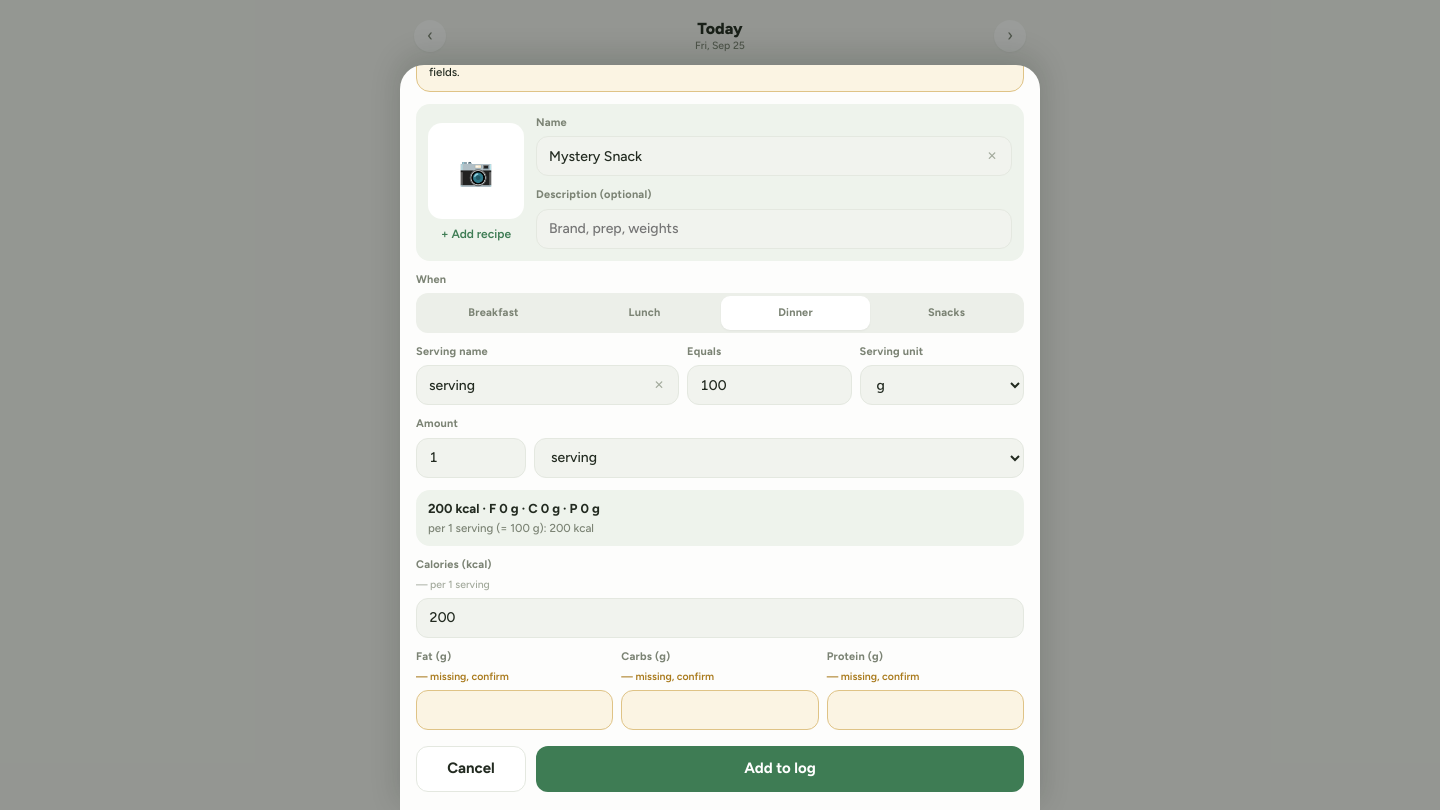
Test: App (spec scenario walkthrough) › search prefill with missing macros flags fields but allows saving as zero
The image size is (1440, 810).
(page scrolled)
Expected: the field labelled "Calories (kcal) — per 1 serving" holds "200", [416,598,1024,638]
Expected: the field labelled "Carbs (g) — missing, confirm" is empty, [621,690,819,730]
# Saving with the optional macros left blank succeeds, defaulting them to 0
Click the button "Add to log".
click(780, 769)  # box [536,746,1024,792]
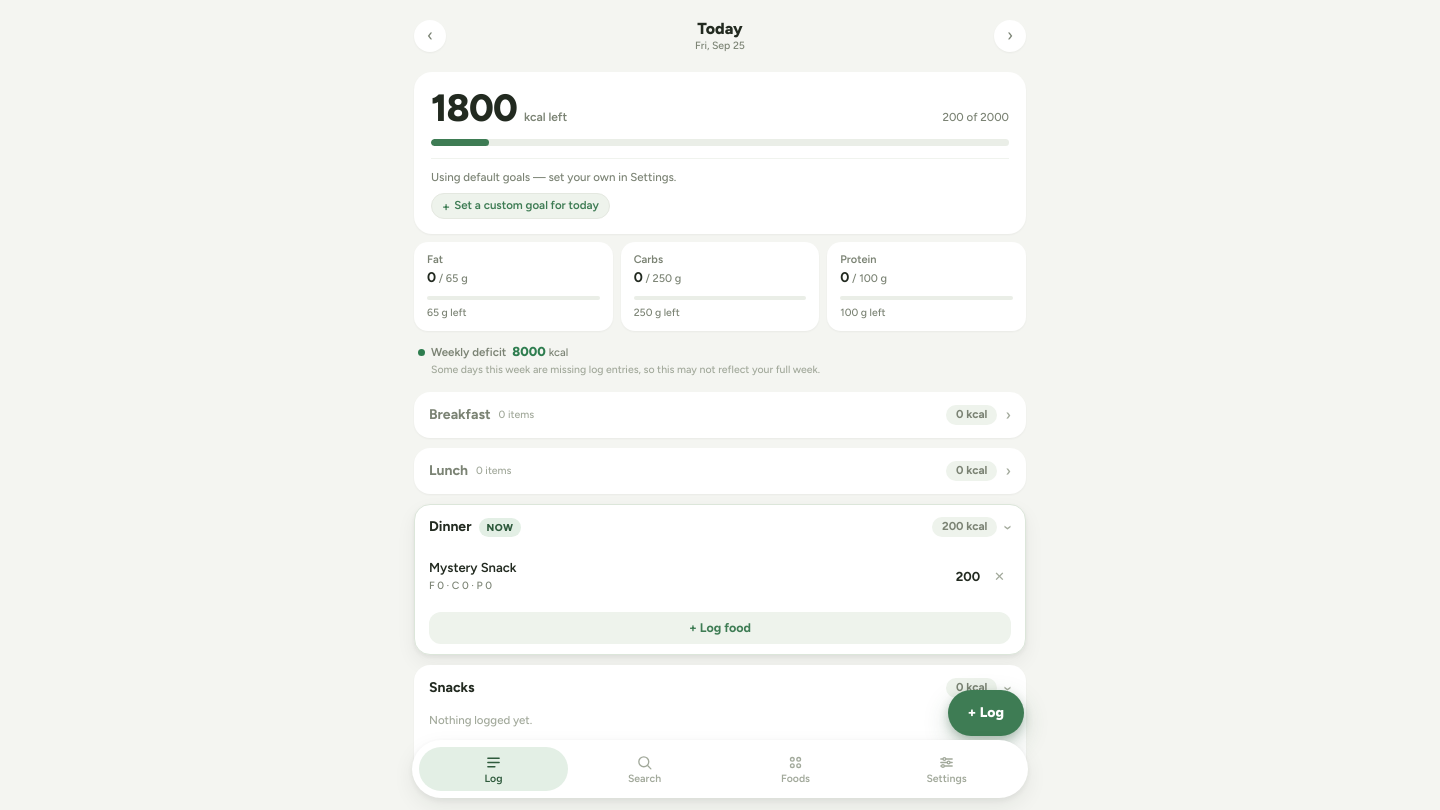
Expected: the text "Mystery Snack" is shown, [429,560,516,577]
